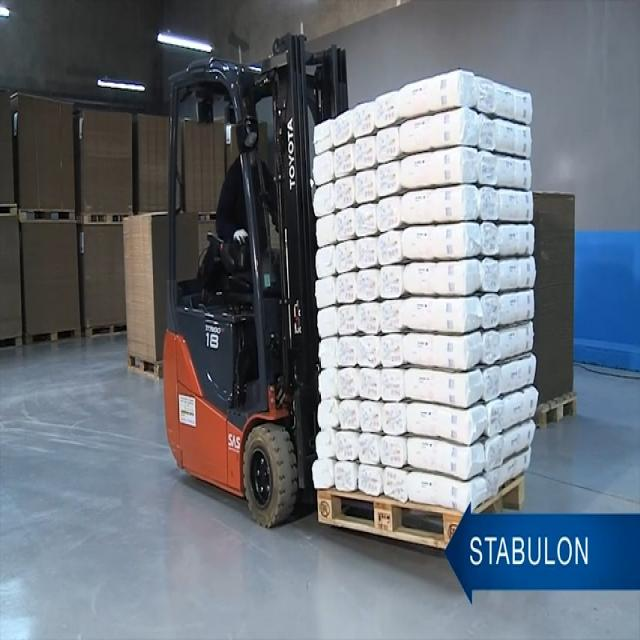Chariot elevateur: (144, 34, 356, 558)
Palette: (310, 476, 530, 561), (534, 379, 585, 437), (78, 202, 138, 238), (26, 324, 86, 353), (120, 348, 166, 380), (86, 316, 128, 348), (19, 203, 80, 225), (0, 331, 23, 357), (200, 200, 219, 225), (0, 199, 20, 217)
